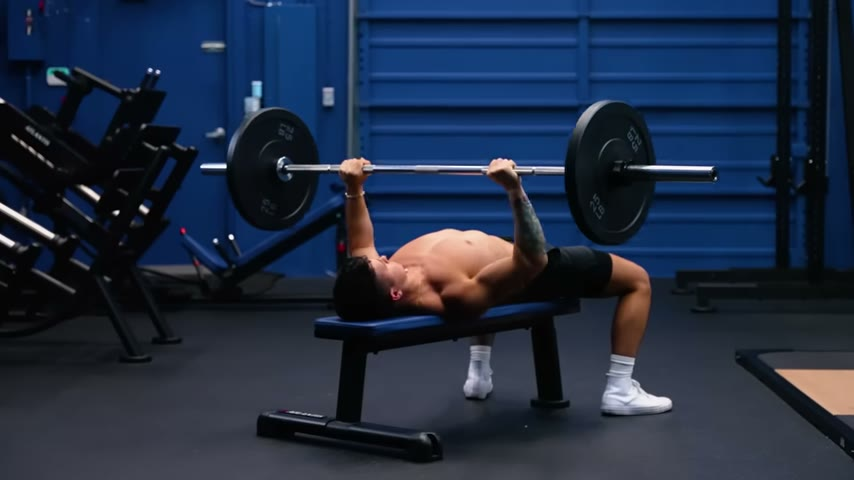barbell_plate_side: (594, 81, 715, 257), (234, 92, 339, 279)
